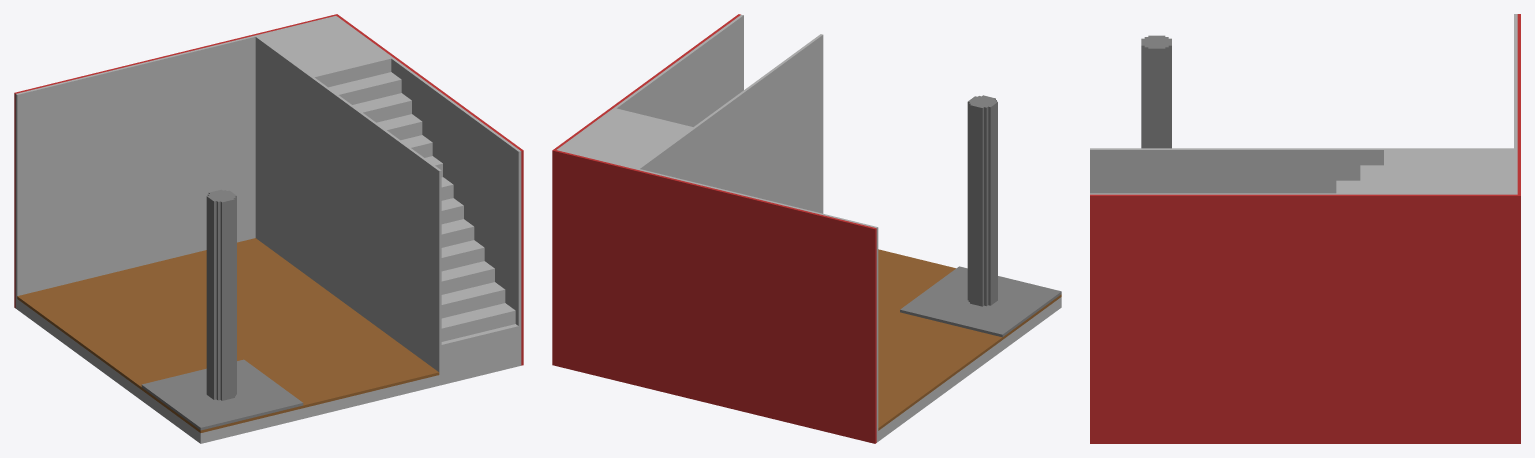
File: 4x2 first-6.obj
3 views of the same model, side by side, from view 1: azimuth 30°, elevation 25°; view 2: azimuth 150°, elevation 25°; view 3: azimuth 270°, elevation 25° (orthographic). The views are drawn at different scales.
Visible parts, largest first — view 1: 4x2 first-6; view 2: 4x2 first-6; view 3: 4x2 first-6.
Part boxes in pixels (left/top/right/bottom): 4x2 first-6: left=14, top=14, right=523, bottom=443; 4x2 first-6: left=552, top=14, right=1061, bottom=443; 4x2 first-6: left=1090, top=14, right=1520, bottom=443.
Size of the model in its own units: 126 by 80 by 126.
1 material, 1 textured.
